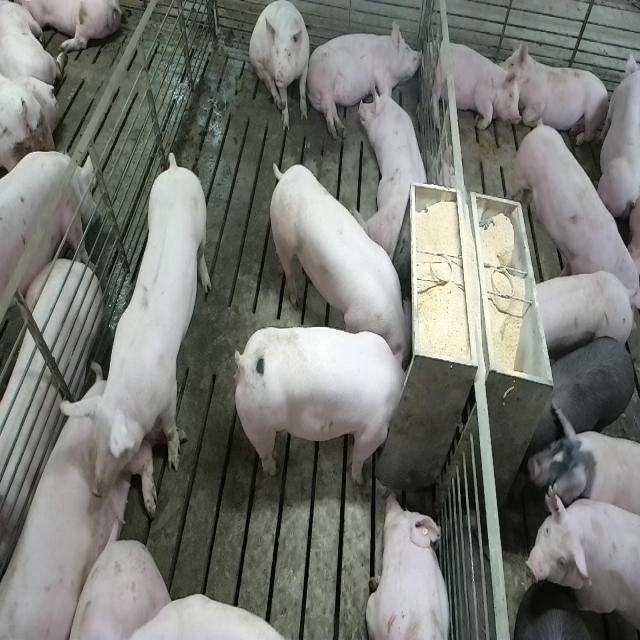Feeding: (264, 160, 412, 365), (229, 324, 409, 484)
Lateral_lying: (306, 16, 424, 141)
Sitting: (250, 1, 312, 134)
Standing: (58, 157, 210, 487), (510, 114, 638, 297), (522, 480, 638, 640), (0, 154, 95, 347), (525, 399, 637, 532), (538, 333, 636, 436), (531, 270, 635, 352)
Sternal_lying: (0, 382, 154, 640), (362, 69, 433, 259), (365, 490, 452, 640), (509, 41, 612, 151), (424, 36, 519, 134)
